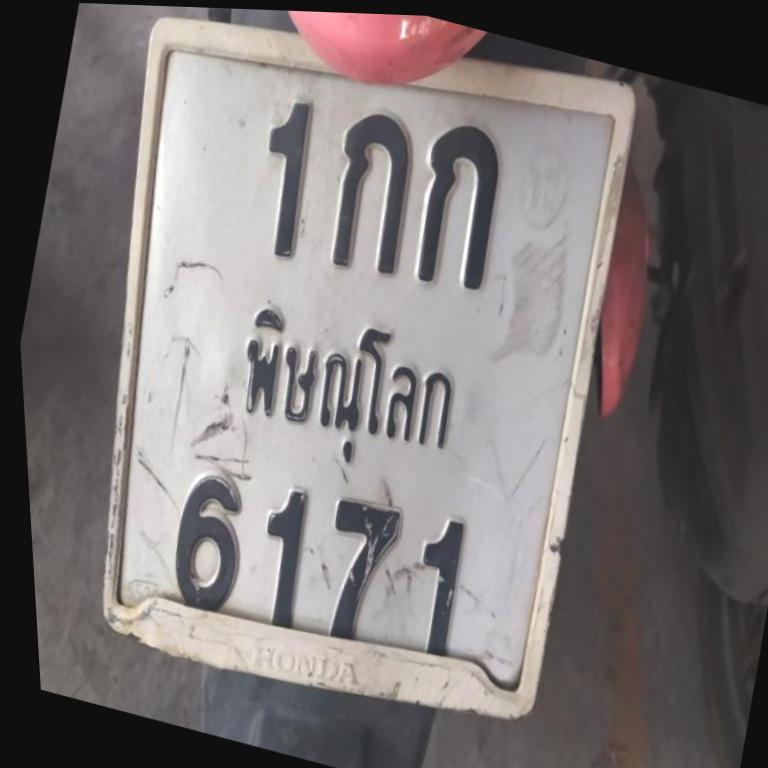license plate: (103, 18, 634, 717)
